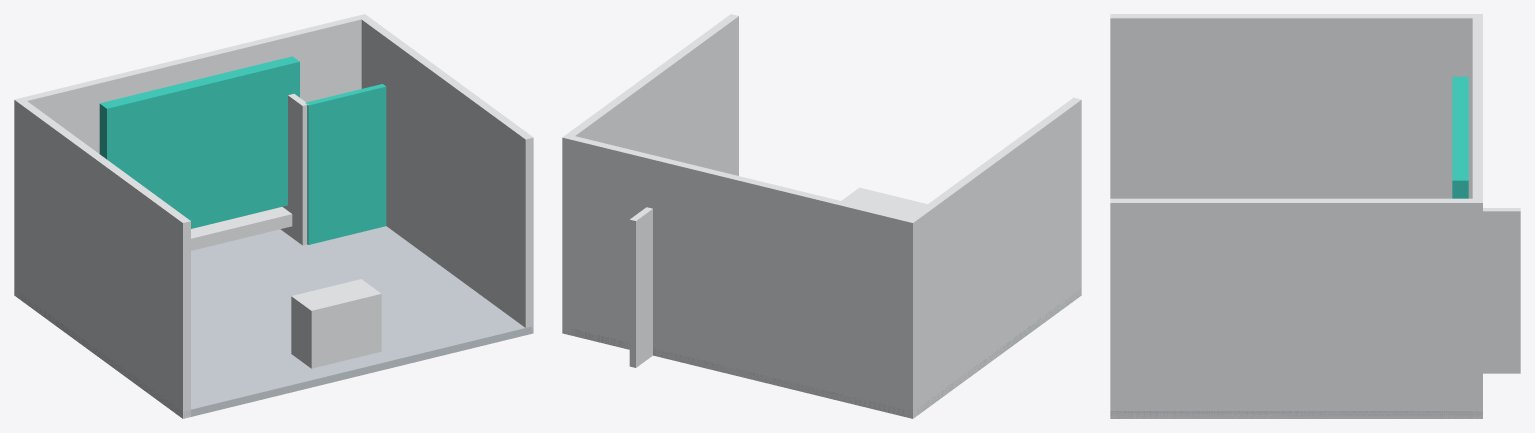
The picture shows the model from 3 angles, left to right: view 1: azimuth 30°, elevation 25°; view 2: azimuth 150°, elevation 25°; view 3: azimuth 270°, elevation 25°; orthographic projection. The views are drawn at different scales.
Parts seen in each view (by area): view 1: Exhibition Booth Concept; view 2: Exhibition Booth Concept; view 3: Exhibition Booth Concept.
Boxes of the visible parts, box(x1,y1,x2,y2) form: Exhibition Booth Concept: box(14, 14, 533, 418); Exhibition Booth Concept: box(562, 14, 1081, 418); Exhibition Booth Concept: box(1110, 14, 1520, 418).
Bounding box in the file's own units: 6 × 3.2 × 5.51.
